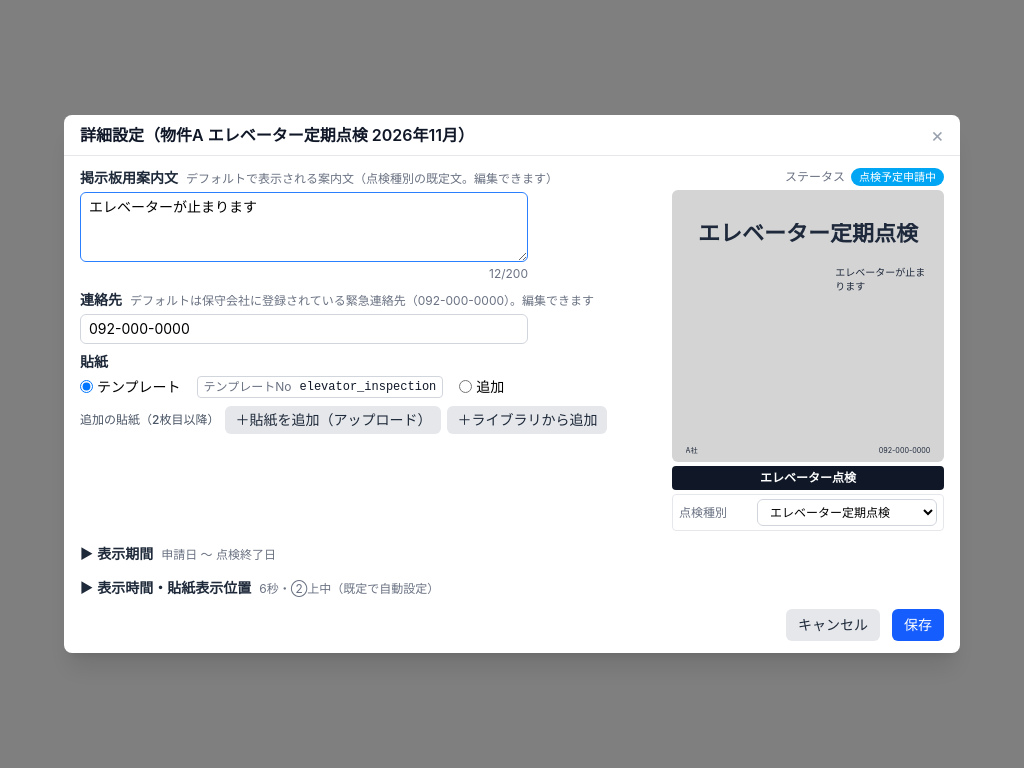
Test: RowDetailModal の追記表示と点検種別の変更（修正依頼1029） › 修正中の行で、その種別の点検にこの月の予定の行が無ければ変えずに理由を知らせる
The width and height of the screenshot is (1024, 768).
Select "リモート点検" in the dropdown labelled "点検種別". click: (847, 513)
box: [757,499,937,526]
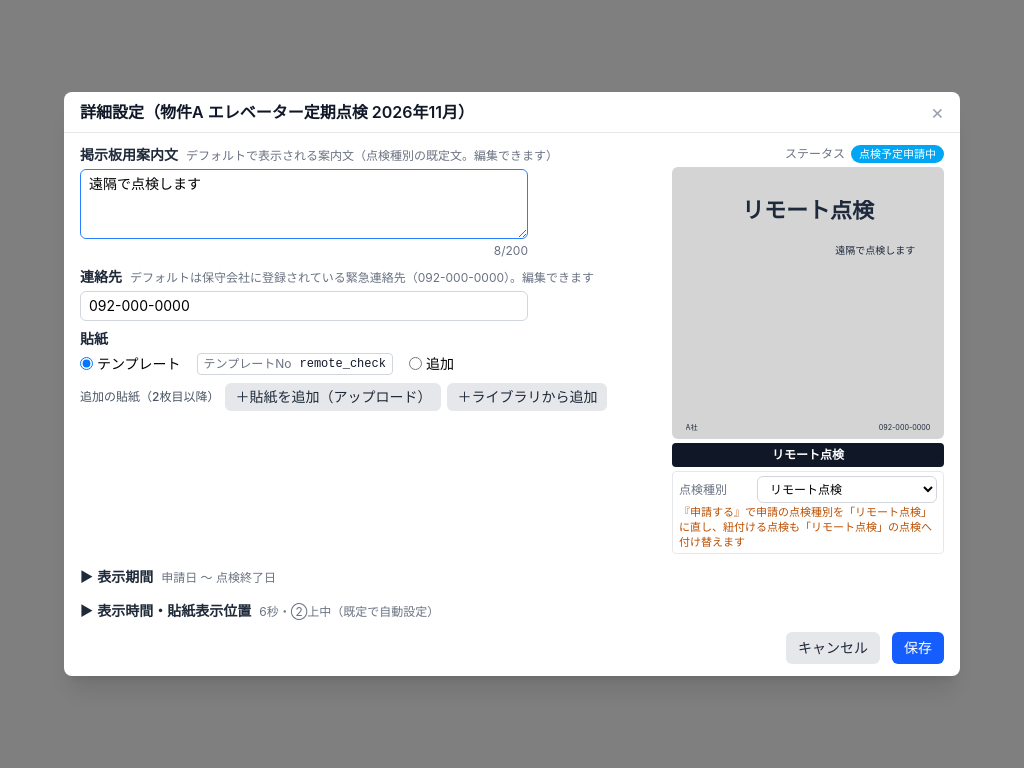
Click the button "保存". click: (918, 648)
box: [892,632,944,664]
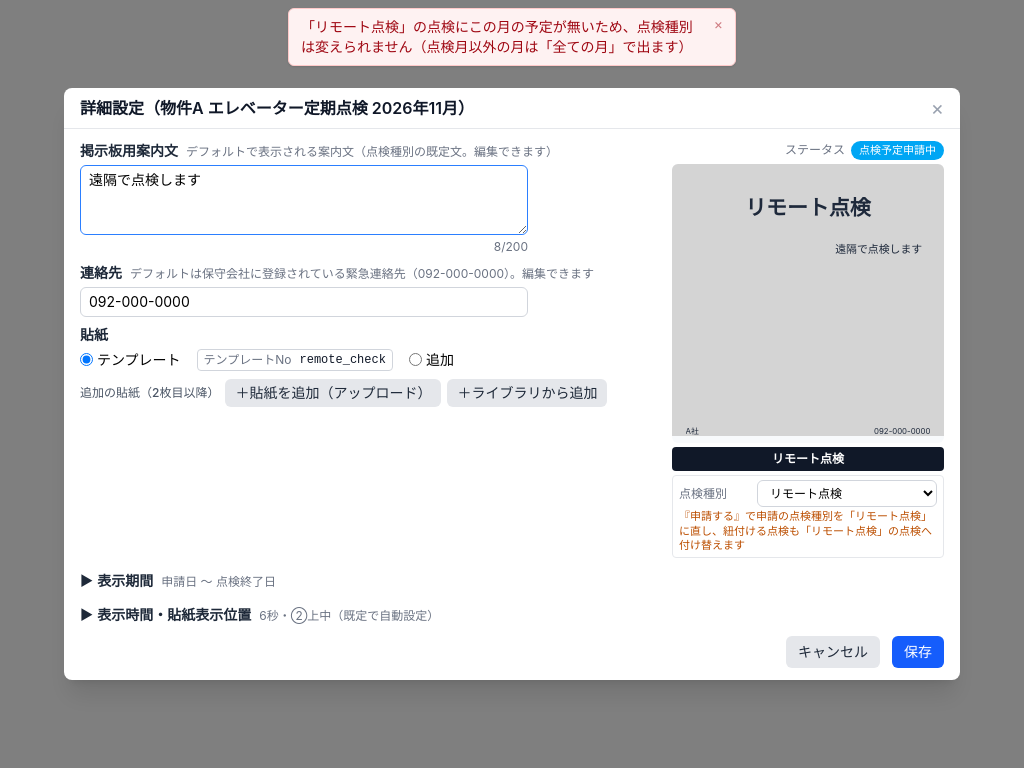
Result: the text "「リモート点検」の点検にこの月の予定が無いため、点検種別は変えられません（点検月以外の月は「全ての月」で出ます）" is shown at [301,17,706,57]
